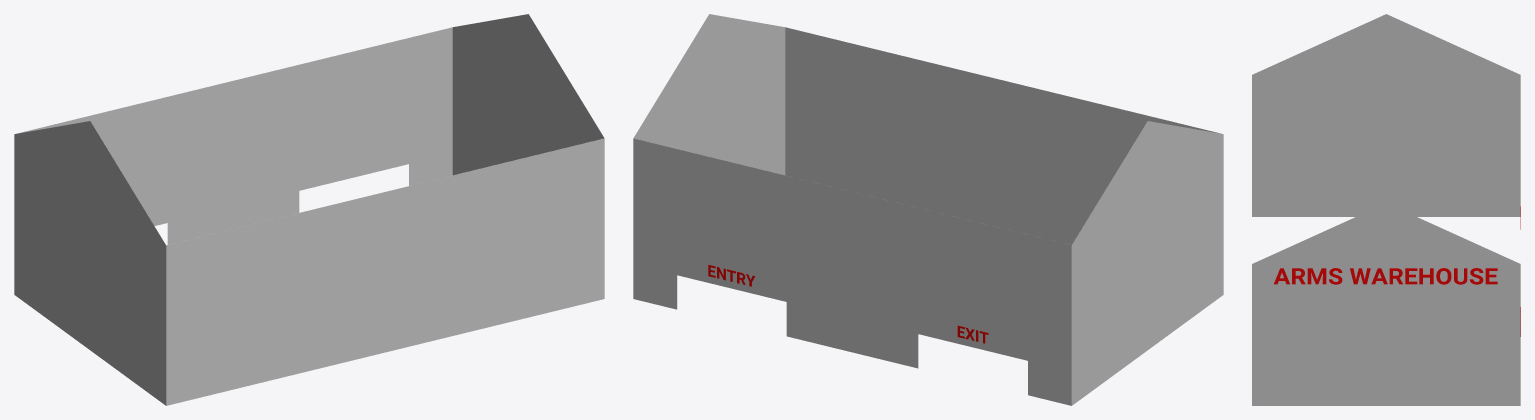
Rendered from warehouse.dae.
3 views of the same model, side by side, from view 1: azimuth 30°, elevation 25°; view 2: azimuth 150°, elevation 25°; view 3: azimuth 270°, elevation 25° (orthographic). The views are drawn at different scales.
Visible parts, largest first — view 1: ID2; view 2: ID2; view 3: ID2.
Part boxes in pixels (left/top/right/bottom): ID2: left=14, top=14, right=604, bottom=405; ID2: left=633, top=14, right=1223, bottom=405; ID2: left=1252, top=14, right=1520, bottom=405.
Bounding box in the file's own units: 10.01 × 6.01 × 5.
